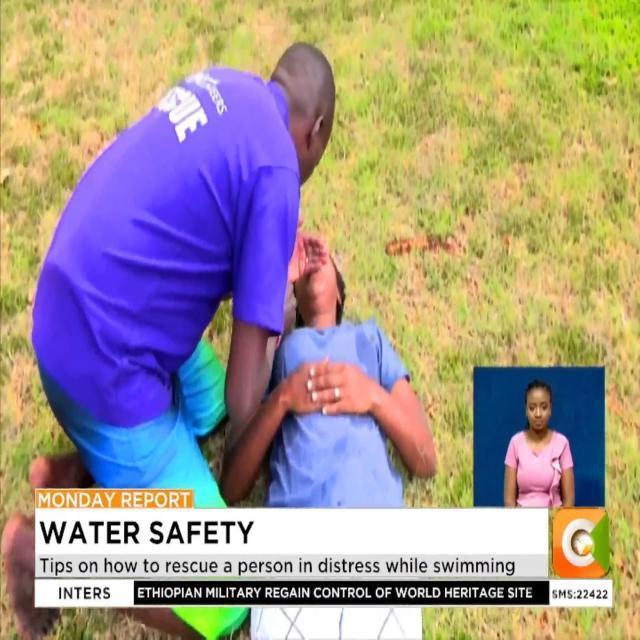out of water: (32, 18, 337, 466), (271, 223, 434, 506)
